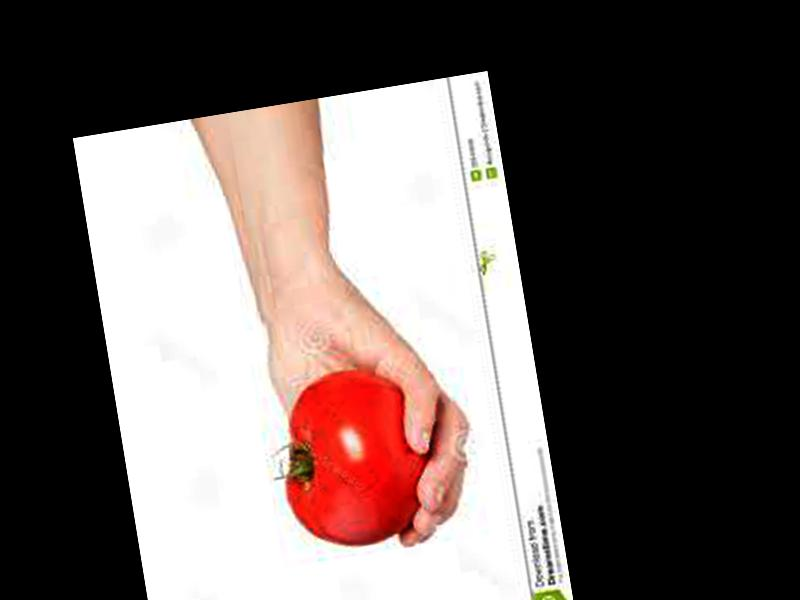Tomato: (266, 357, 441, 556)
